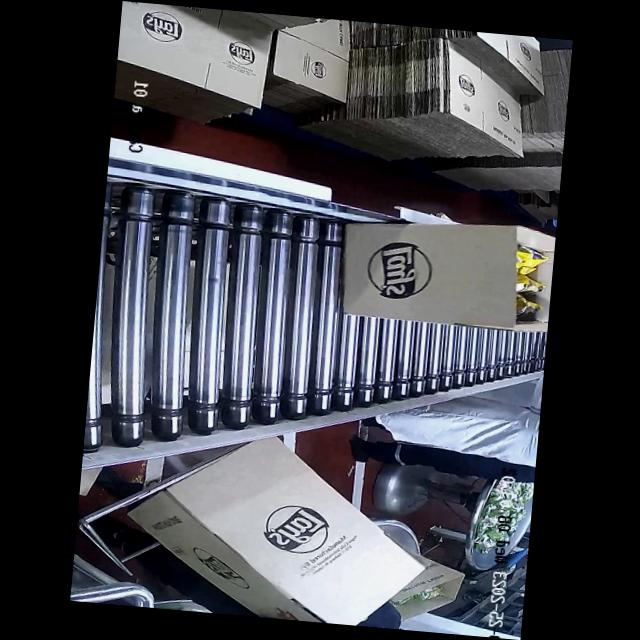salted: (498, 229, 554, 326)
